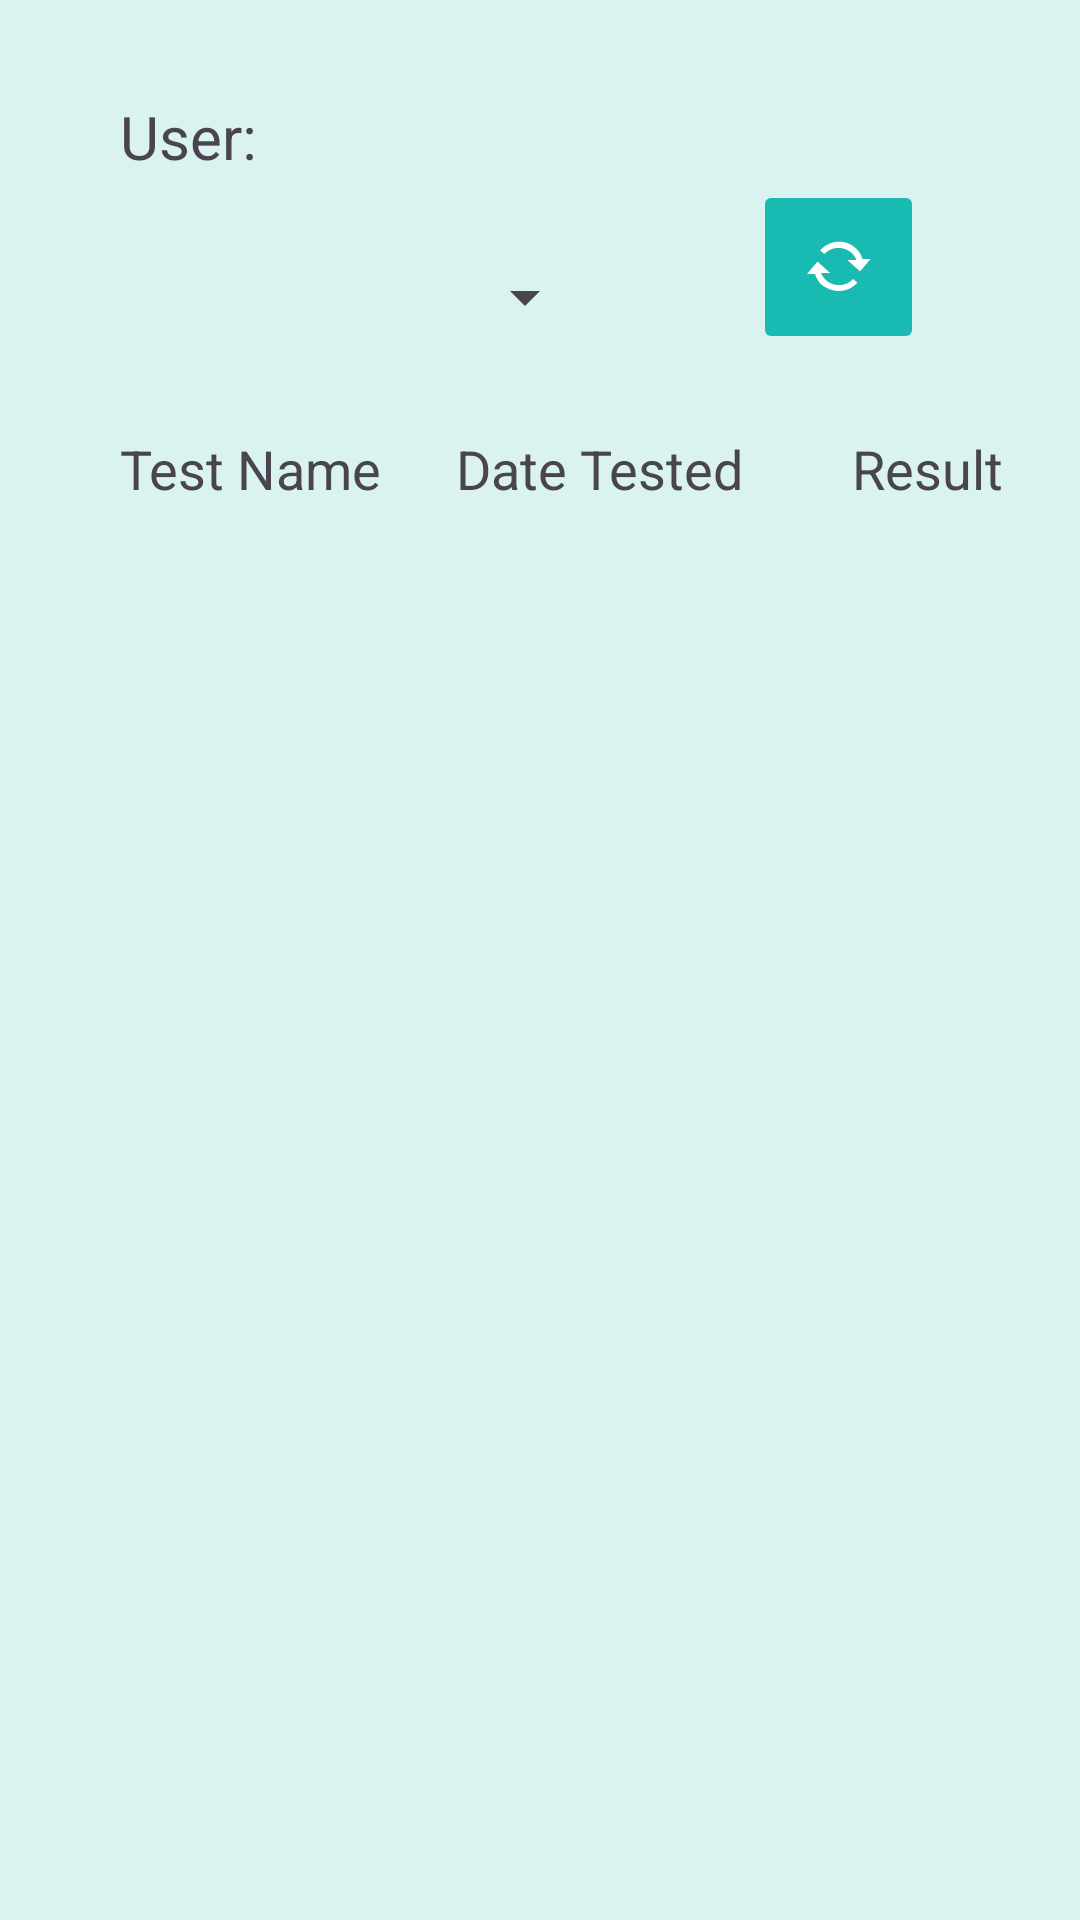

Screen size 1080x1920. Icon name, then its box in pixels as (x1, y1, x2, y2):
sync noanim: (765, 198, 912, 336)
